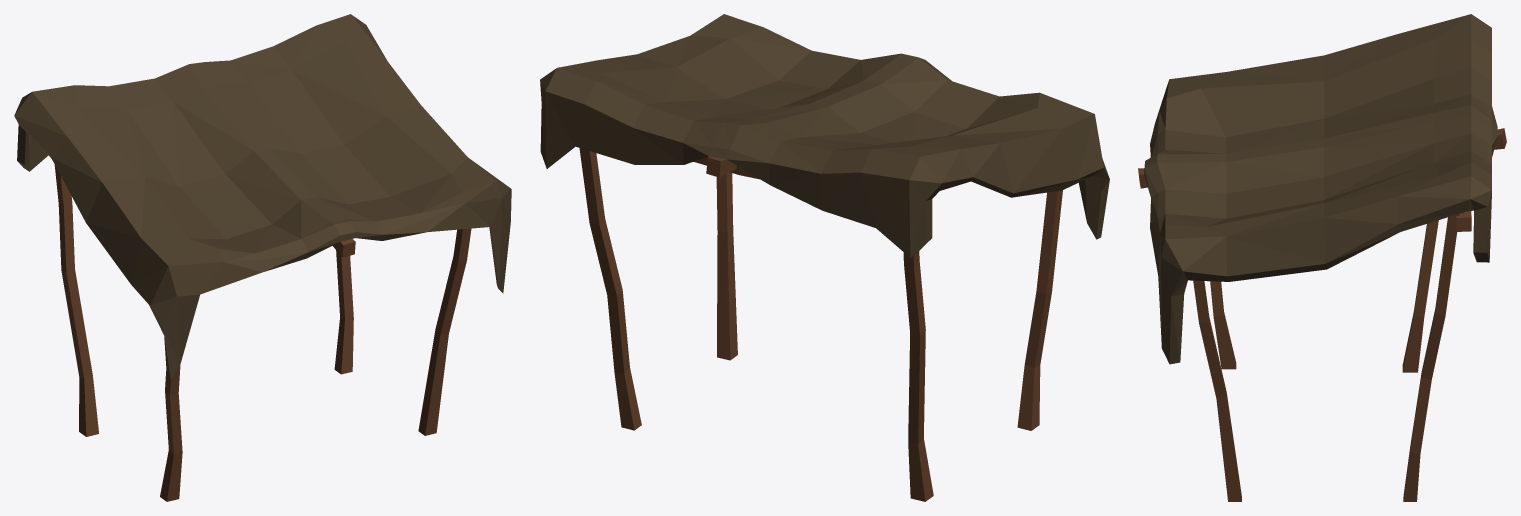
File: SM_Bld_Stall_Cover_03.fbx
The picture shows the model from 3 angles, left to right: view 1: azimuth 30°, elevation 25°; view 2: azimuth 150°, elevation 25°; view 3: azimuth 270°, elevation 25°; orthographic projection. The views are drawn at different scales.
Visible parts, largest first — view 1: SM_Bld_Stall_Cover_03; view 2: SM_Bld_Stall_Cover_03; view 3: SM_Bld_Stall_Cover_03.
Part boxes in pixels (box(x1,y1,x2,y2)): SM_Bld_Stall_Cover_03: box(14, 14, 511, 501); SM_Bld_Stall_Cover_03: box(540, 14, 1109, 501); SM_Bld_Stall_Cover_03: box(1138, 14, 1506, 501).
Bounding box in the file's own units: 0.0354 × 0.0305 × 0.0299.
1 material, 1 textured.
